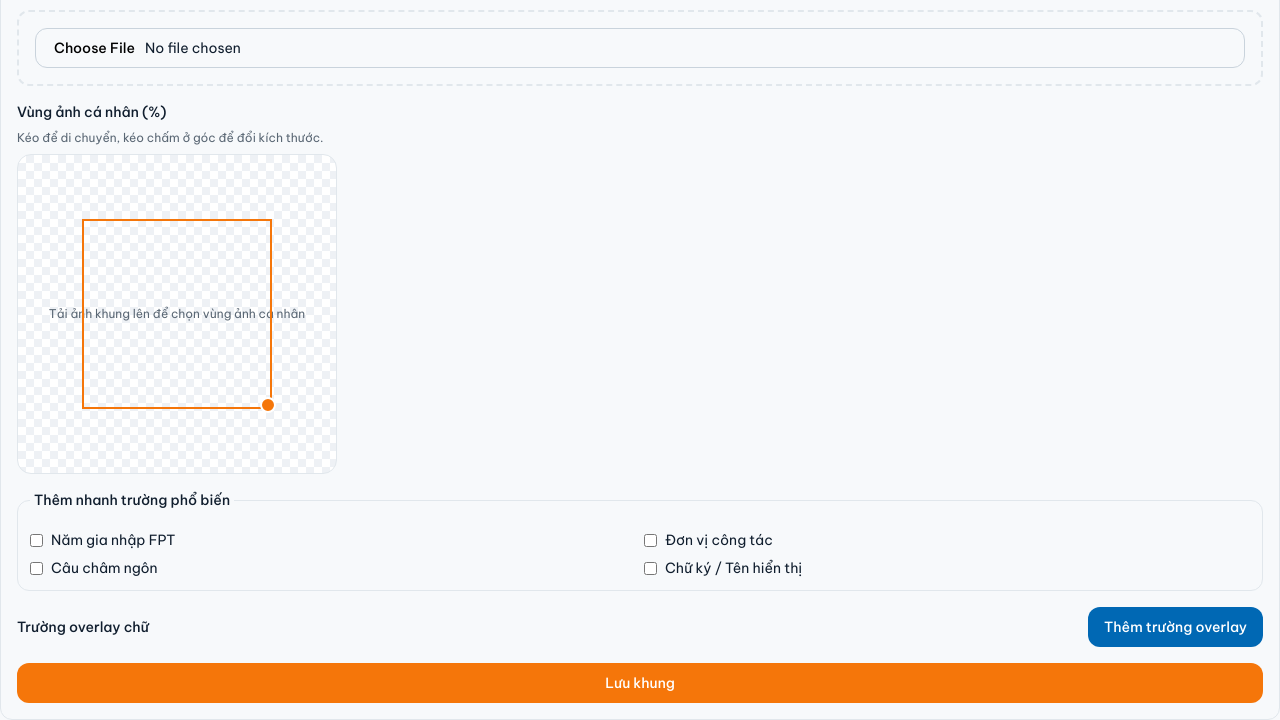
Test: TemplateForm › displays the selected overlay type label, not its raw value
(page scrolled)
What coordinates should you click on to do the following:
click the button "Thêm trường overlay"
I would click on:
 (1176, 627)
Its box is [1088,607,1263,647].
(page scrolled)
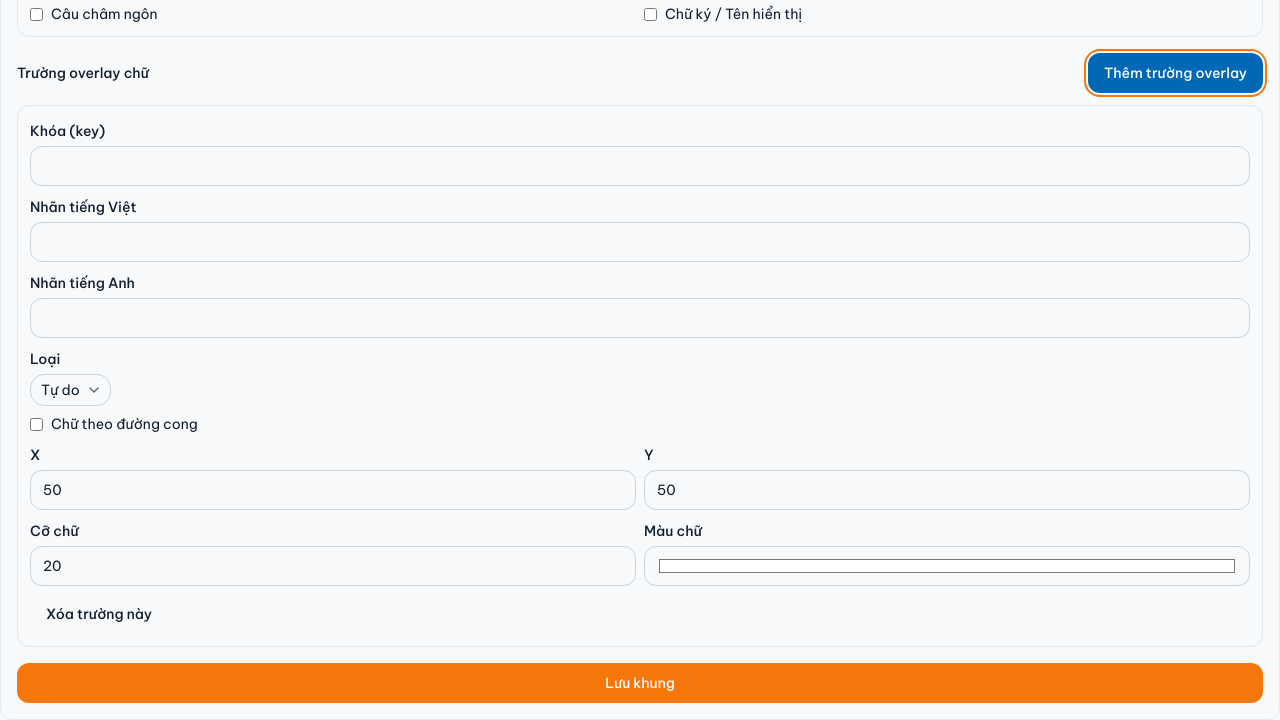
Check: the text "Tự do" is shown, box [41,380,80,400]
